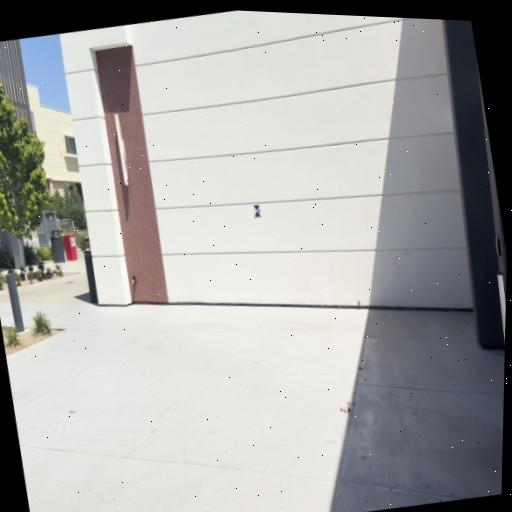target0: (252, 203, 261, 218)
